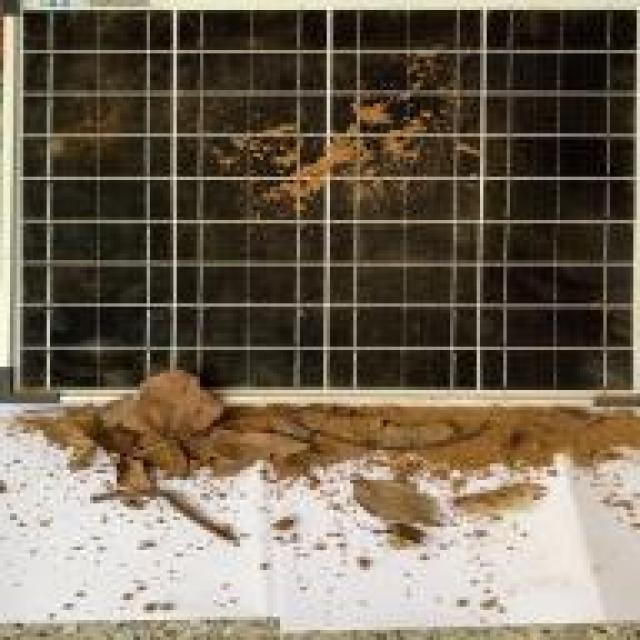dust-solar-panel: (1, 0, 640, 391)
